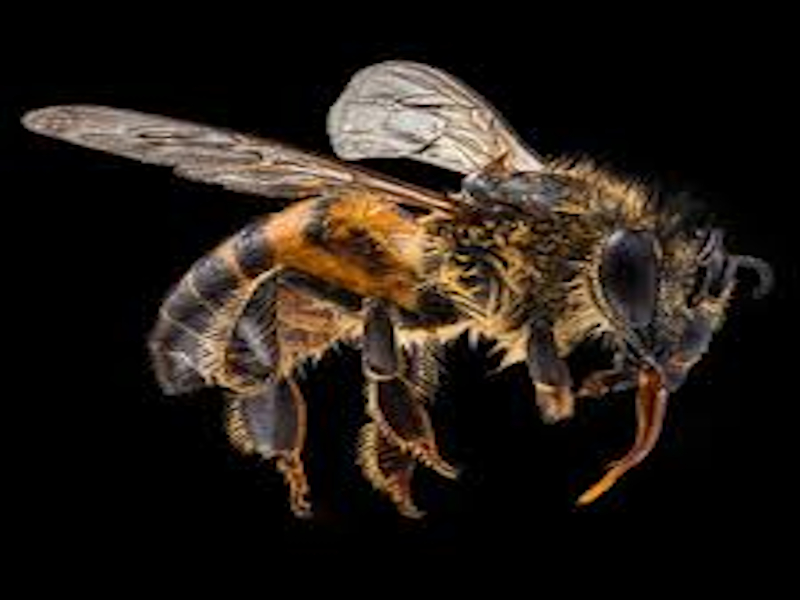abeja: (21, 29, 771, 520)
